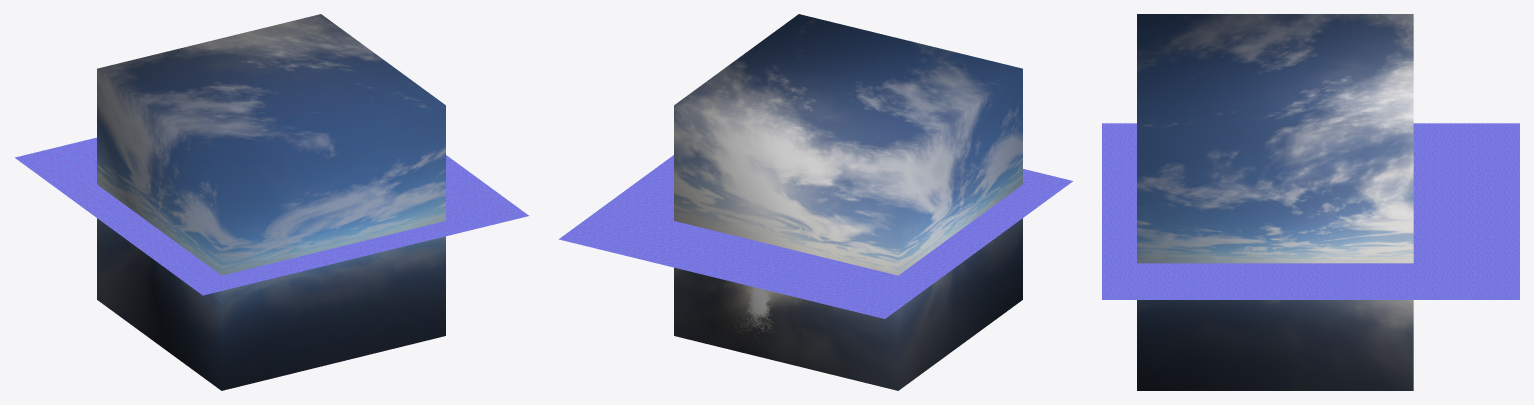
File: Orca.obj
3 views of the same model, side by side, from view 1: azimuth 30°, elevation 25°; view 2: azimuth 150°, elevation 25°; view 3: azimuth 270°, elevation 25° (orthographic). The views are drawn at different scales.
Size of the model in its own units: 200 by 135 by 200.
4 materials, 4 textured.
